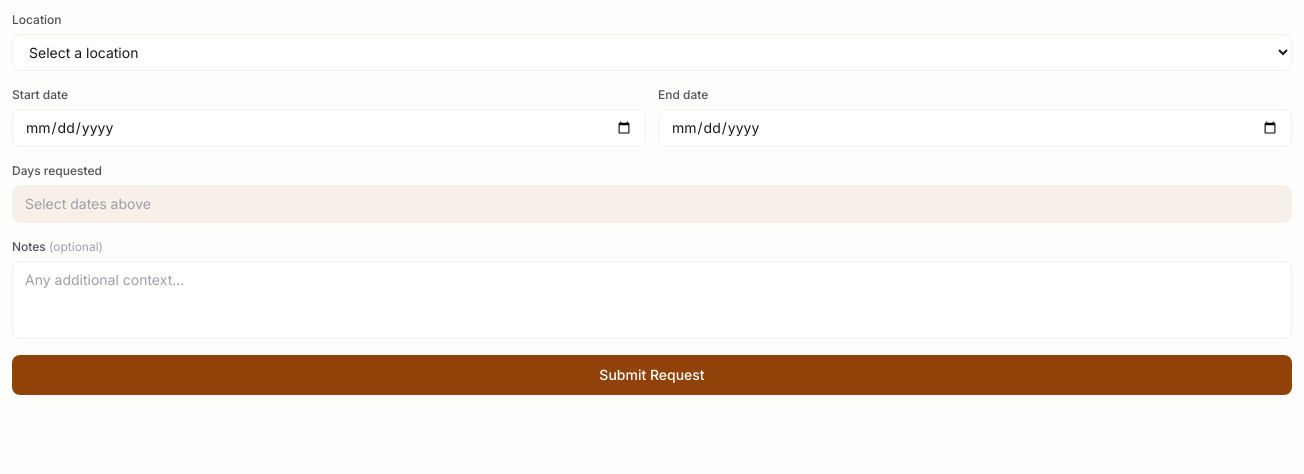
Test: RequestForm — balance info display › shows stale warning when selected balance is stale
Select "New York" in the dropdown labelled "Location". click: point(652, 52)
box: [12,34,1292,71]
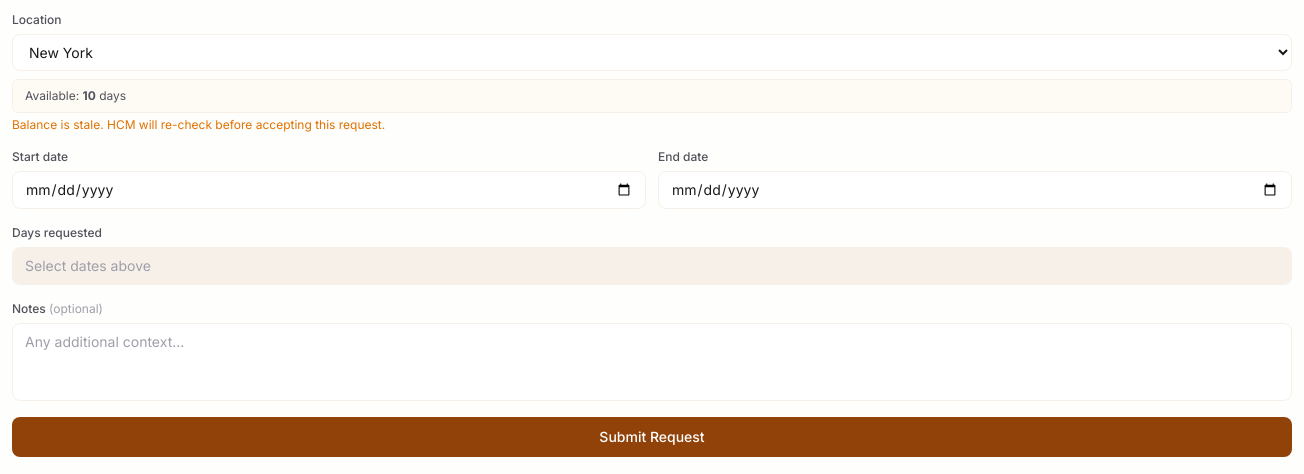
Expected: the text "stale" is shown, [12,117,385,132]
